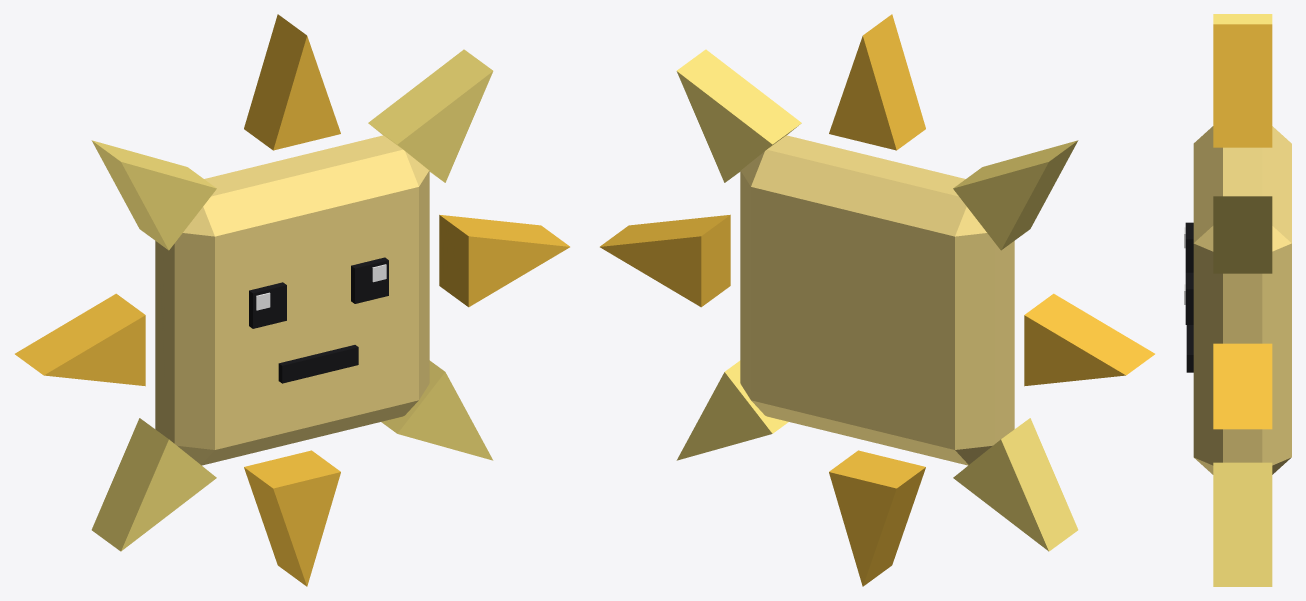
File: Sun.fbx
The picture shows the model from 3 angles, left to right: view 1: azimuth 30°, elevation 25°; view 2: azimuth 150°, elevation 25°; view 3: azimuth 270°, elevation 25°; orthographic projection.
Visible parts, largest first — view 1: Sun; view 2: Sun; view 3: Sun.
Part boxes in pixels (x1,y1,x2,y2): Sun: [15, 14, 569, 586]; Sun: [600, 14, 1154, 586]; Sun: [1184, 14, 1291, 586].
Size of the model in its own units: 6.2 by 6.2 by 1.1.
Materials: 1 (1 with a texture image).
